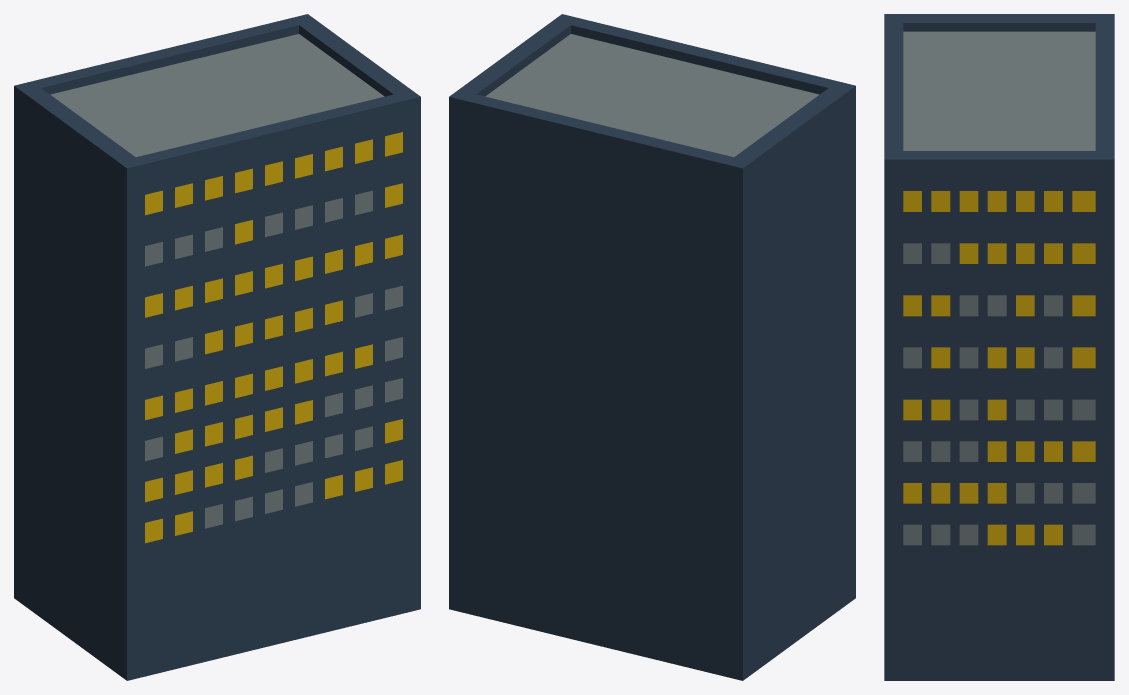
The model's file is buildingone.fbx.
3 views of the same model, side by side, from view 1: azimuth 30°, elevation 25°; view 2: azimuth 150°, elevation 25°; view 3: azimuth 270°, elevation 25° (orthographic).
Visible parts, largest first — view 1: pCube1; view 2: pCube1; view 3: pCube1.
Part boxes in pixels (<box>): pCube1: <box>14,14,420,680</box>; pCube1: <box>449,14,855,680</box>; pCube1: <box>884,14,1114,680</box>.
Bounding box in the file's own units: 3 × 5 × 2.
